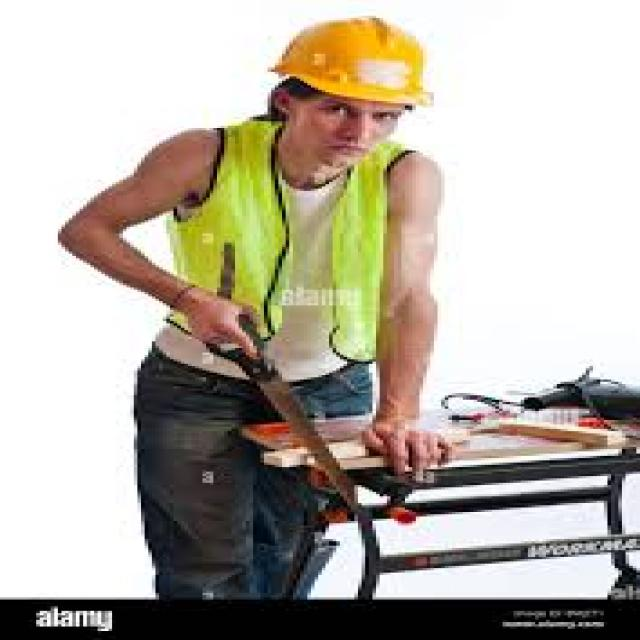Reflective-Jacket: (141, 130, 427, 371)
Safety-Helmet: (264, 13, 437, 112)
